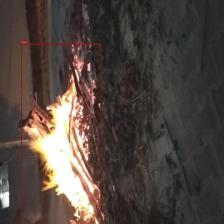fire: (21, 43, 101, 224)
